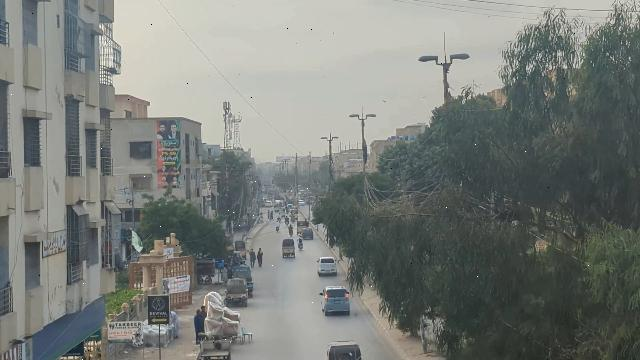Car: (320, 285, 352, 317), (318, 257, 337, 277)
Cart: (197, 336, 236, 360)
Rickshaw: (324, 341, 362, 360)
Suzuki: (223, 277, 250, 308), (232, 264, 255, 297)
